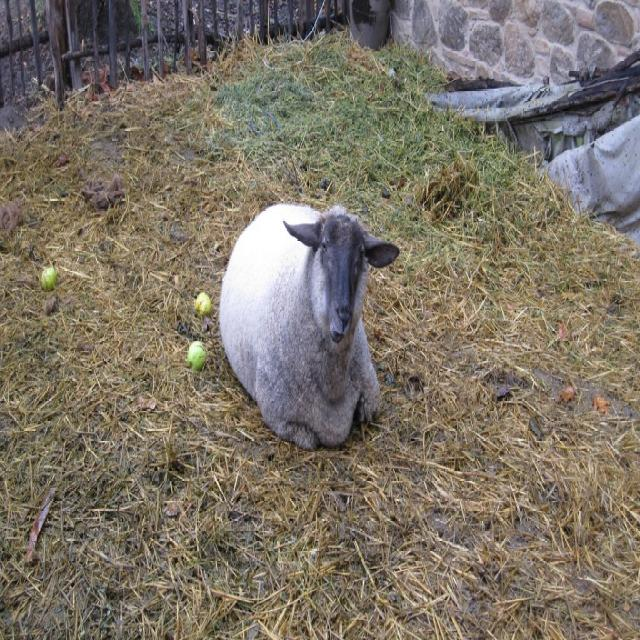Sheep: (218, 200, 397, 451)
